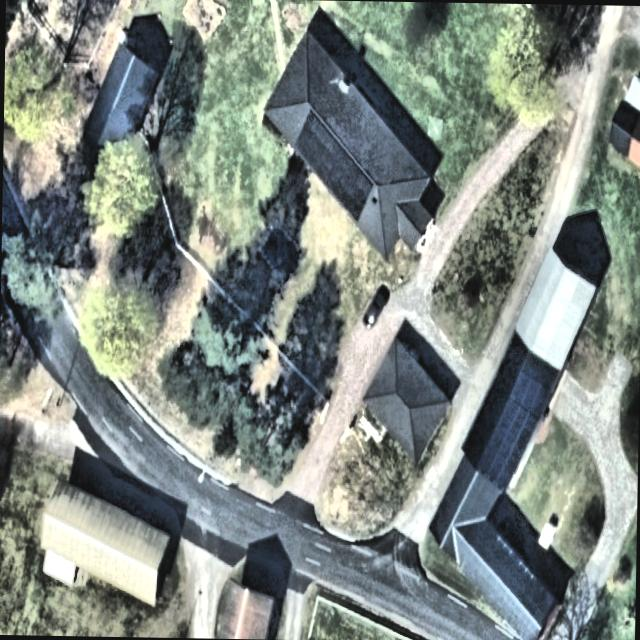roof_pv: (479, 407, 539, 490), (320, 138, 374, 221), (288, 113, 335, 177), (511, 375, 552, 421)
